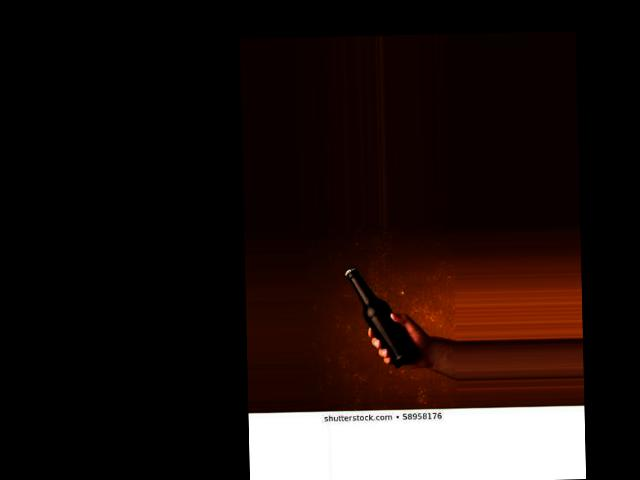beer: (344, 265, 421, 369)
